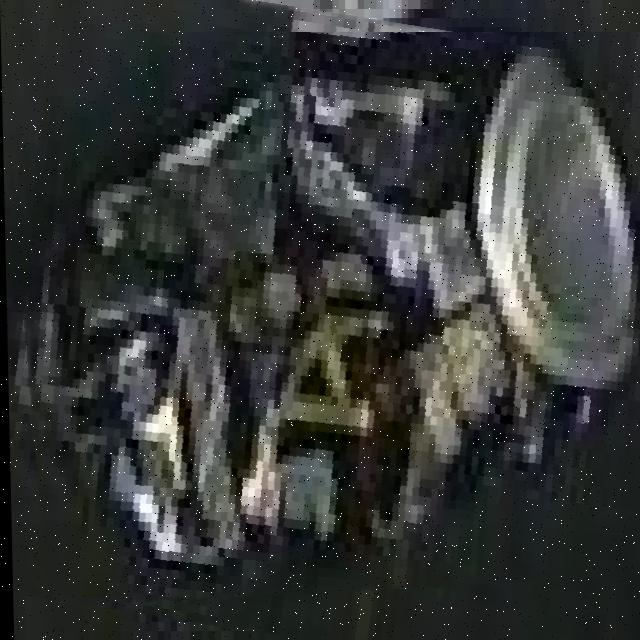litter: (21, 32, 640, 604)
